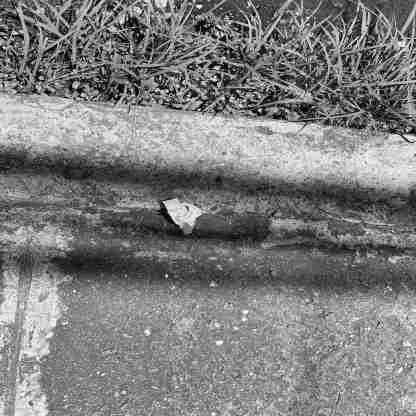plastic: (163, 196, 201, 233)
